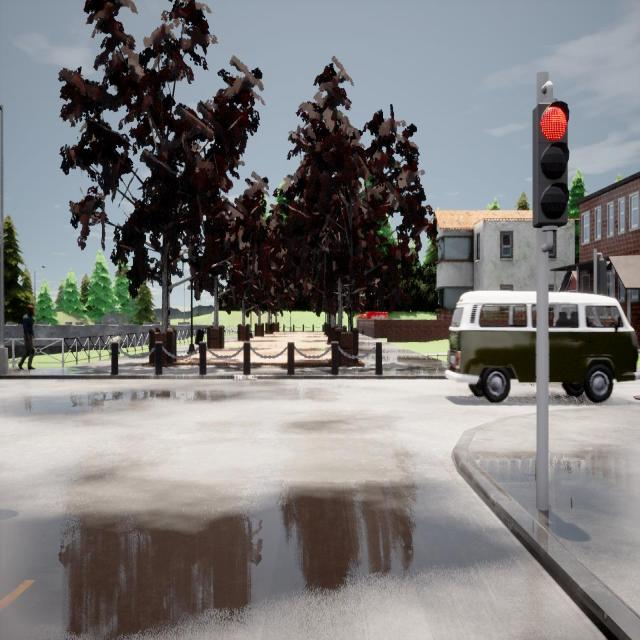Pedestrian: (18, 300, 38, 370)
Vehicle: (445, 289, 640, 405), (356, 310, 388, 321)
traffic_light: (531, 100, 570, 230)
